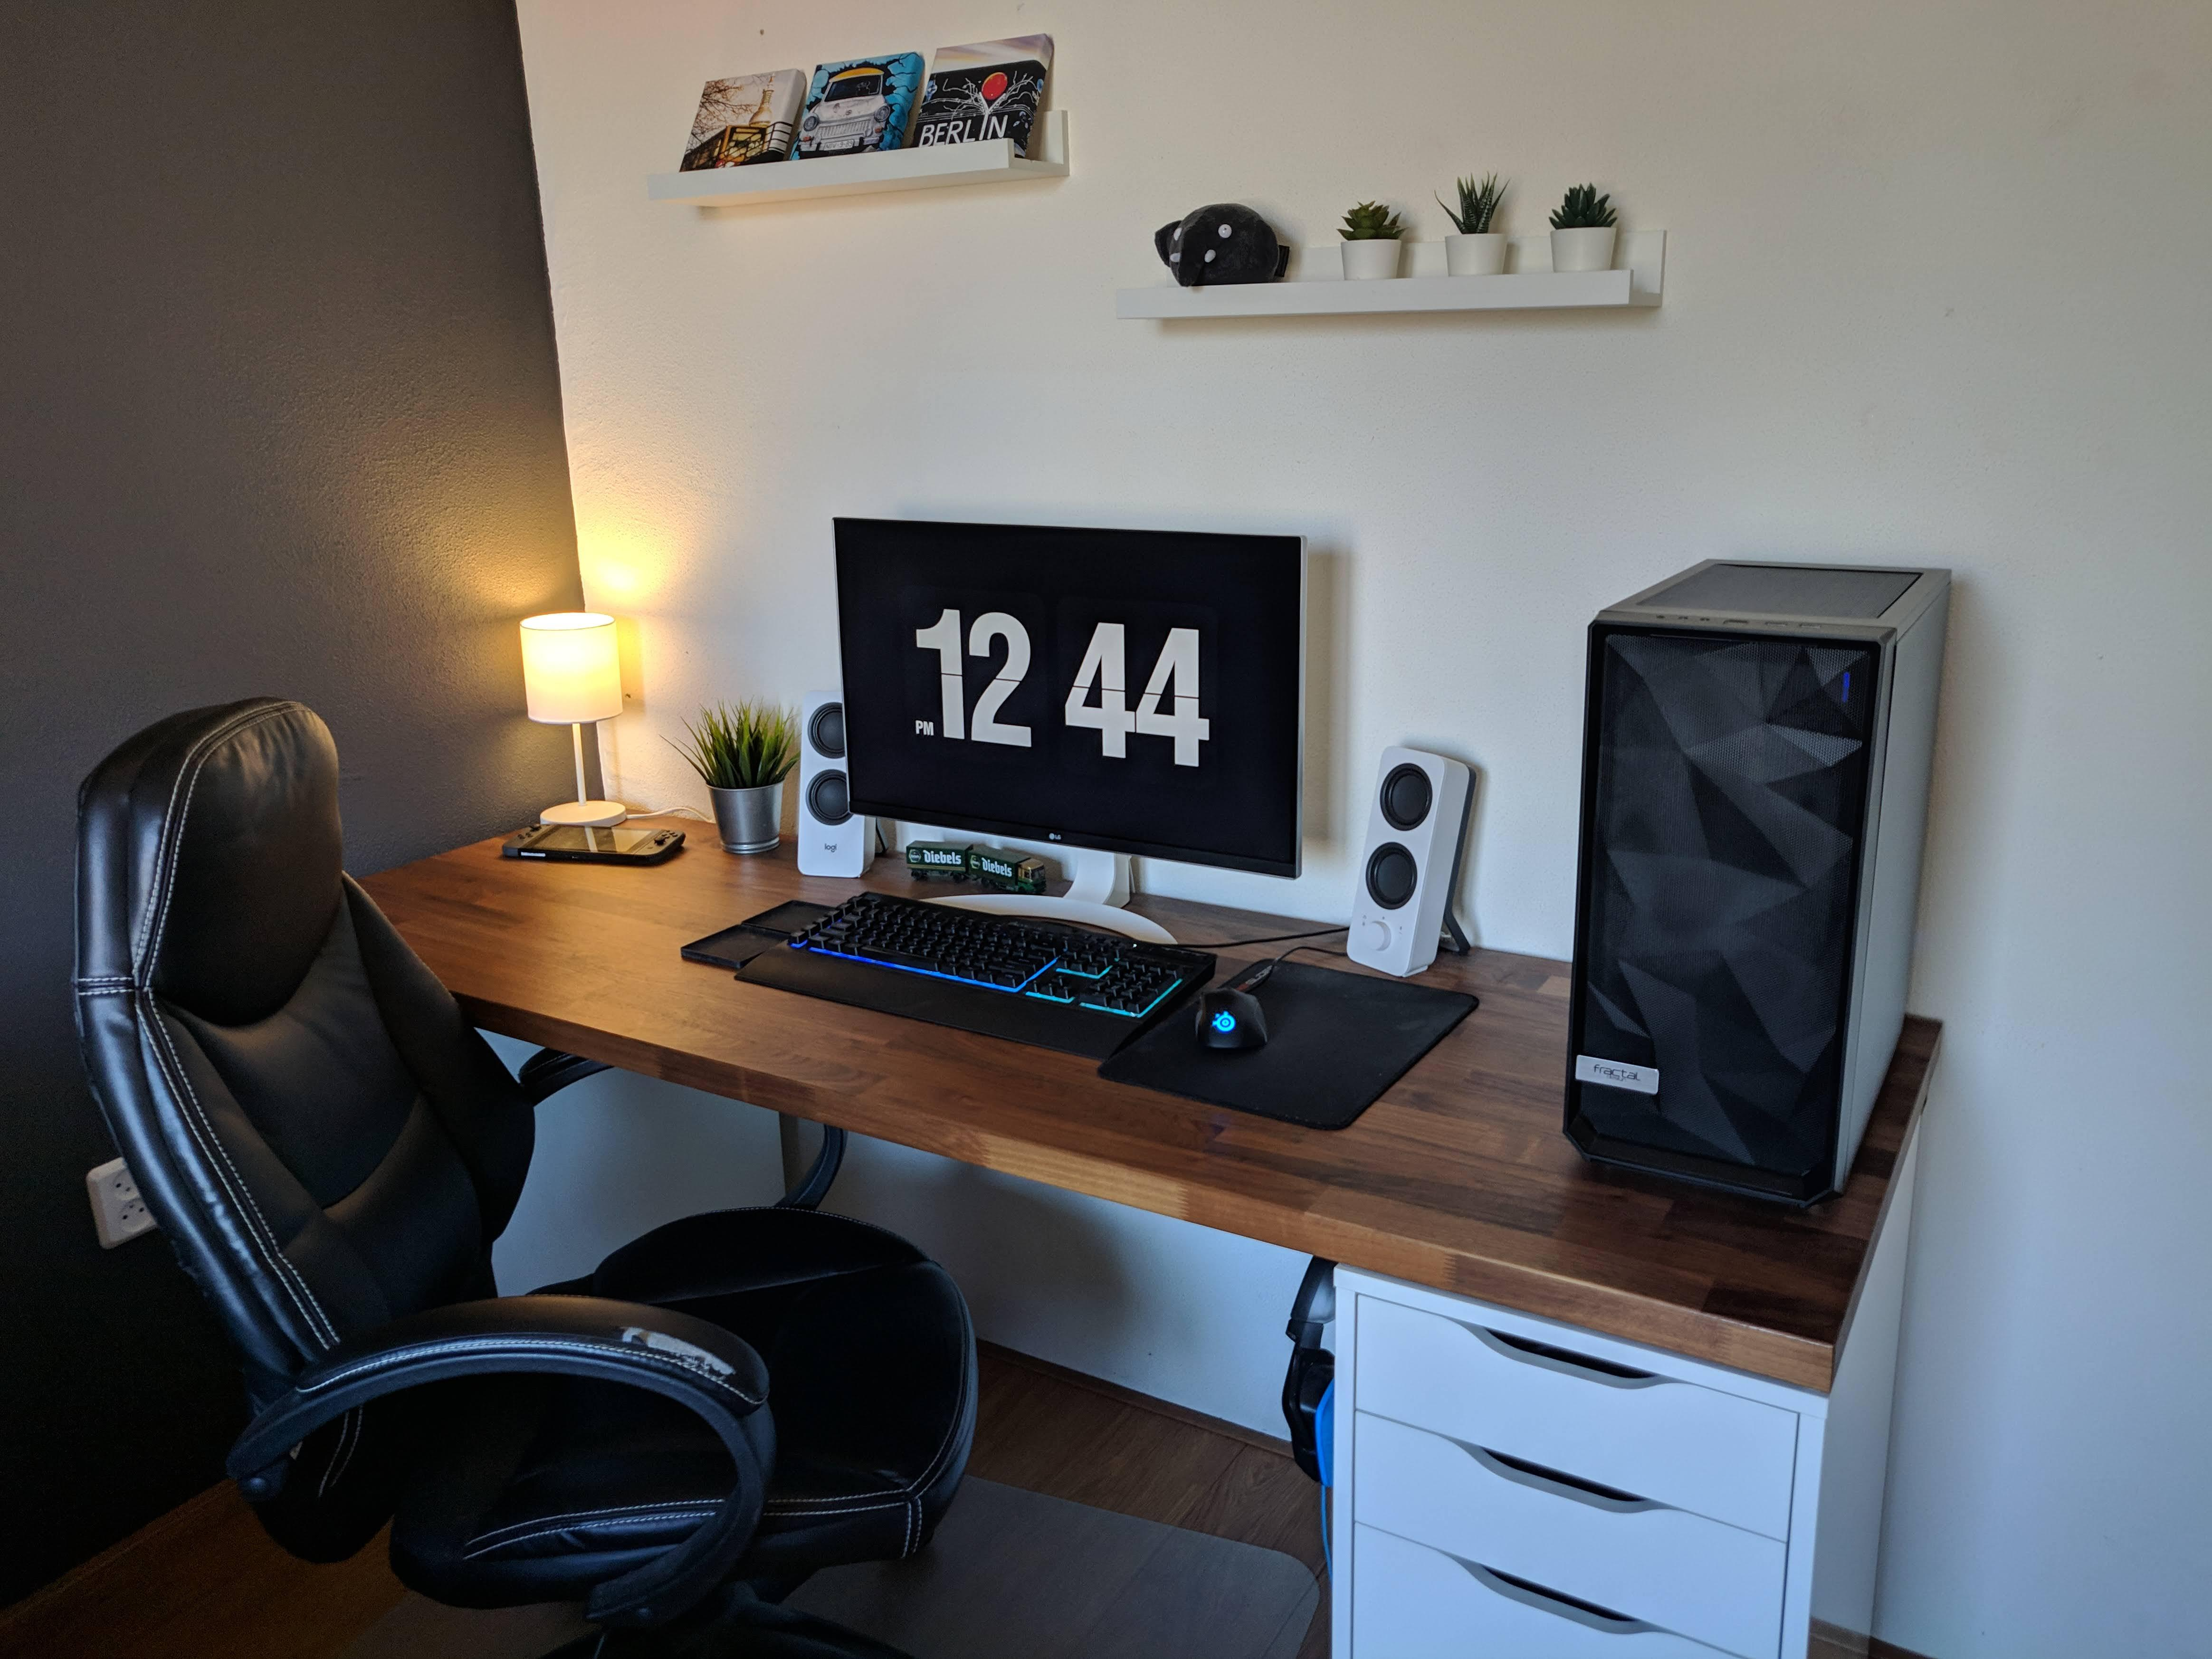Chair (Generic): (0, 586, 968, 1582)
Decoration (Picture): (674, 52, 799, 169), (794, 47, 920, 164), (920, 37, 1043, 153)
Decoration (Plant): (690, 704, 791, 856), (1433, 183, 1521, 275), (1325, 185, 1411, 277), (1540, 181, 1625, 272)
Desk (Generic): (35, 748, 1952, 1303)
Desktop (Generic): (1568, 592, 1932, 1188)
External Speakers (Generic): (1346, 739, 1493, 995), (799, 685, 883, 882)
Gaming Console: (502, 817, 690, 866)
Keyboard (Gaming): (824, 882, 1176, 1060)
Lamp (Desk): (510, 580, 627, 810)
Monitor (Landscape): (820, 518, 1322, 889)
Mouse (Gaming): (1191, 965, 1298, 1053)
Mousepad (Generic): (1183, 951, 1432, 1117)
Musical Instrument (Electric Guitar): (1249, 1260, 1355, 1480)
Storage Drawer: (1322, 1272, 1839, 1659)
